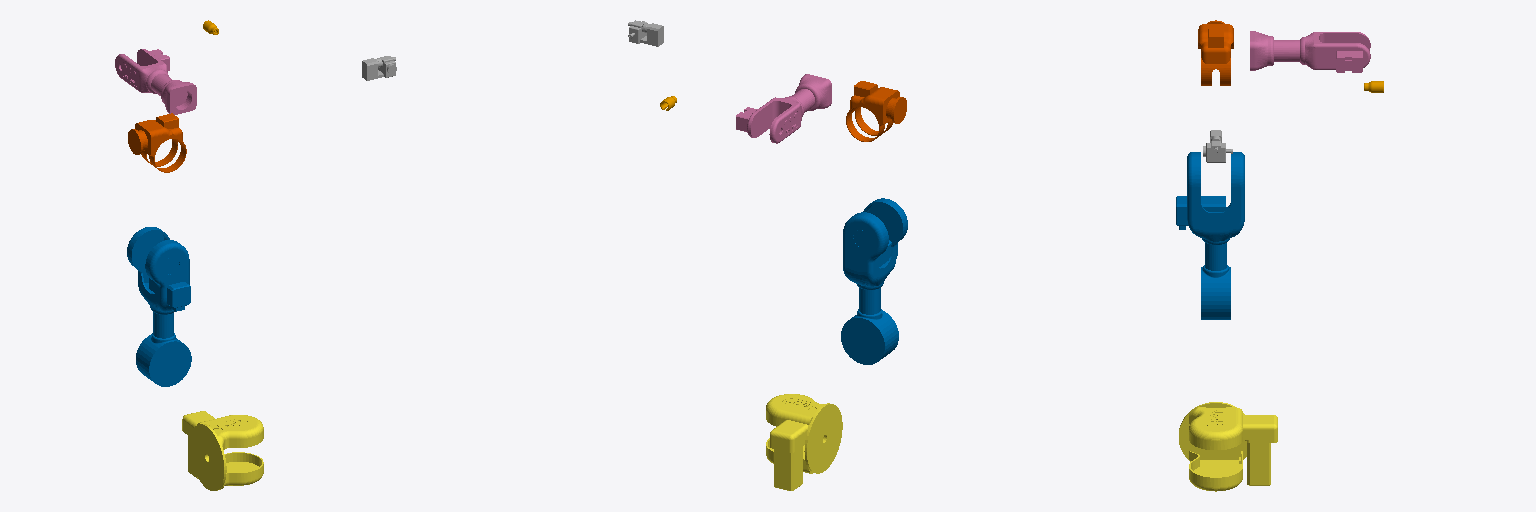
robot.urdf — niryo_ned2:
<?xml version="1.0"?>
<robot name="niryo_ned2">
    <!-- Links -->

    <link name="world"/>

    <link name="base_link">
        <inertial>
            <origin xyz="-0.008924 0.0001357 0.052392" rpy="0 0 0"/>
            <mass value="0.71142"/>
            <inertia ixx="0.0017" ixy="0.0" ixz="0.0" iyy="0.0017" iyz="0.0" izz="0.0032"/>
        </inertial>
        <visual>
            <origin xyz="0 0 0" rpy="0 0 0"/>
            <geometry>
                <mesh filename="assets/1- BASE - V1.obj" scale="0.001 0.001 0.001"/>
            </geometry>
        </visual>
        <collision>
            <origin xyz="0 0 0" rpy="-1.5708 0 0"/>
            <geometry>
                <mesh filename="assets/1- BASE - V1.STL" scale="0.001 0.001 0.001"/>
            </geometry>
        </collision>
    </link>

    <link name="led_ring_link">
    </link>

    <link name="shoulder_link">
        <inertial>
            <origin xyz="-0.031951 0.0080419 0.030675" rpy="0 0 0"/>
            <mass value="0.35056"/>
            <inertia ixx="0.00023875" ixy="2.3853E-08" ixz="2.0596E-06" iyy="0.00032638" iyz="-8.9319E-07"
                     izz="0.00030089"/>
        </inertial>
        <visual>
            <origin xyz="0 0 0" rpy="0 0 -1.5708"/>
            <geometry>
                <mesh filename="assets/2- SHOULDER - V1.obj" scale="0.001 0.001 0.001"/>
            </geometry>
        </visual>
        <collision>
            <origin xyz="0 0 0" rpy="0 0 -1.5708"/>
            <geometry>
                <mesh filename="assets/2- SHOULDER - V1.STL" scale="0.001 0.001 0.001"/>
            </geometry>
        </collision>
    </link>

    <link name="arm_link">
        <inertial>
            <origin xyz="-0.00096976 0.086432 0.0038832" rpy="0 3.14159 0"/>
            <mass value="1.0838"/>
            <inertia ixx="0.008194" ixy="0.00015602" ixz="-3.434E-06" iyy="0.0011945" iyz="-0.00031298" izz="0.007915"/>
        </inertial>
        <visual>
            <origin xyz="0 0 0" rpy="0 3.14159 0"/>
            <geometry>
                <mesh filename="assets/3- ARM - V1.obj" scale="0.001 0.001 0.001"/>
            </geometry>
        </visual>
        <collision>
            <origin xyz="0 0 0" rpy="0 3.14159 0"/>
            <geometry>
                <mesh filename="assets/3- ARM - V1.STL" scale="0.001 0.001 0.001"/>
            </geometry>
        </collision>
    </link>

    <link name="elbow_link">
        <inertial>
            <origin xyz="-0.019703 0.037336 -1.7431E-09" rpy="0 3.14159 0"/>
            <mass value="0.22126"/>
            <inertia ixx="0.00011754" ixy="-1.2314E-05" ixz="-6.2064E-11" iyy="0.00020851" iyz="9.2393E-11"
                     izz="0.00022753"/>
        </inertial>
        <visual>
            <origin xyz="0 0 0" rpy="0 3.14159 -1.5708"/>
            <geometry>
                <mesh filename="assets/4- ELBOW - V1.obj" scale="0.001 0.001 0.001"/>
            </geometry>
        </visual>
        <collision>
            <origin xyz="0 0 0" rpy="0 3.14159 -1.5708"/>
            <geometry>
                <mesh filename="assets/4- ELBOW - V1.STL" scale="0.001 0.001 0.001"/>
            </geometry>
        </collision>
    </link>

    <link name="forearm_link">
        <inertial>
            <origin xyz="-0.0049532 7.8351E-06 0.08106" rpy="0 0 0"/>
            <mass value="0.35686"/>
            <inertia ixx="0.0013664" ixy="-9.6367E-08" ixz="0.00013594" iyy="0.0014781" iyz="-1.4596E-07"
                     izz="0.00023715"/>
        </inertial>
        <visual>
            <origin xyz="0 0 0" rpy="0 0 -1.5708"/>
            <geometry>
                <mesh filename="assets/5- FOREARM - V1.obj" scale="0.001 0.001 0.001"/>
            </geometry>
        </visual>
        <collision>
            <origin xyz="0 0 0" rpy="0 0 -1.5708"/>
            <geometry>
                <mesh filename="assets/5- FOREARM - V1.STL" scale="0.001 0.001 0.001"/>
            </geometry>
        </collision>
    </link>

    <link name="wrist_link">
        <inertial>
            <origin xyz="-0.019666 0.037312 0.0" rpy="0 0 0"/>
            <mass value="0.22126"/>
            <inertia ixx="0.0015" ixy="0.0" ixz="0.0" iyy="0.0015" iyz="0.0" izz="0.0015"/>
        </inertial>
        <visual>
            <origin xyz="0 0 0" rpy="0 0 -1.5708"/>
            <geometry>
                <mesh filename="assets/6- WRIST - V1.obj" scale="0.001 0.001 0.001"/>
            </geometry>
        </visual>
        <collision>
            <origin xyz="0 0 0" rpy="0 0 -1.5708"/>
            <geometry>
                <mesh filename="assets/6- WRIST - V1.STL" scale="0.001 0.001 0.001"/>
            </geometry>
        </collision>
    </link>

    <link name="hand_link">
        <inertial>
            <origin xyz="0 0 0.009" rpy="0 0 0"/>
            <mass value="0.0070027"/>
            <inertia ixx="0.0015" ixy="0.0" ixz="0.0" iyy="0.0015" iyz="0.0" izz="0.0015"/>
        </inertial>
        <visual>
            <origin xyz="0 0 0" rpy="0 0 -1.5708"/>
            <geometry>
                <mesh filename="assets/7- HAND - V1.obj" scale="0.001 0.001 0.001"/>
            </geometry>
        </visual>
        <collision>
            <origin xyz="0 0 0" rpy="0 0 -1.5708"/>
            <geometry>
                <mesh filename="assets/7- HAND - V1.STL" scale="0.001 0.001 0.001"/>
            </geometry>
        </collision>
    </link>

    <link name="tool_link">
    </link>

    <!-- Joints -->

    <joint name="joint_world" type="fixed">
        <parent link="world"/>
        <child link="base_link"/>
        <origin xyz="0 0 0" rpy="0 0 0"/>
    </joint>

    <joint name="joint_1" type="revolute">
        <origin xyz="0 0 0.1013" rpy="0 0 0"/>
        <parent link="base_link"/>
        <child link="shoulder_link"/>
        <axis xyz="0 0 1"/>
        <limit effort="10.0" velocity="10.0" lower="-3.05433" upper="3.05433"/>
    </joint>

    <joint name="joint_2" type="revolute">
        <origin xyz="0 0 0.065" rpy="1.5708 0 0"/>
        <parent link="shoulder_link"/>
        <child link="arm_link"/>
        <axis xyz="0 0 1"/>
        <limit effort="10.0" velocity="8.0" lower="-1.91986" upper="0.640187"/>
    </joint>

    <joint name="joint_3" type="revolute">
        <origin xyz="0.012 0.221 0" rpy="0 0 1.5708"/>
        <parent link="arm_link"/>
        <child link="elbow_link"/>
        <axis xyz="0 0 1"/>
        <limit effort="7.0" velocity="8.0" lower="-1.39626" upper="1.39626"/>
    </joint>

    <joint name="joint_4" type="revolute">
        <origin xyz="0.0325 -0.065 0" rpy="1.5708 0 0"/>
        <parent link="elbow_link"/>
        <child link="forearm_link"/>
        <axis xyz="0 0 1"/>
        <limit effort="7.0" velocity="2.0" lower="-3.05433" upper="3.05433"/>
    </joint>

    <joint name="joint_5" type="revolute">
        <origin xyz="0 0 0.17" rpy="-1.5708 0 0"/>
        <parent link="forearm_link"/>
        <child link="wrist_link"/>
        <axis xyz="0 0 1"/>
        <limit effort="6.0" velocity="2.0" lower="-1.74533" upper="1.74533"/>
    </joint>

    <joint name="joint_6" type="revolute">
        <origin xyz="0.00925 -0.0197 0" rpy="1.5708 0 0"/>
        <parent link="wrist_link"/>
        <child link="hand_link"/>
        <axis xyz="0 0 1"/>
        <limit effort="5.0" velocity="2.0" lower="-3.05433" upper="3.05433"/>
    </joint>

    <joint name="hand_tool_joint" type="fixed">
        <parent link="hand_link"/>
        <child link="tool_link"/>
        <origin xyz="0 0 0.02" rpy="3.14159 -1.5708 0"/>
    </joint>

    <joint name="joint_led_ring" type="fixed">
        <parent link="world"/>
        <child link="led_ring_link"/>
        <origin xyz="0 0 0.0923" rpy="0 0 0"/>
    </joint>

</robot>

--- Render facts (derived) ---
Views: 3 orthographic renders of the robot side by side, from view 1: azimuth 30°, elevation 25°; view 2: azimuth 150°, elevation 25°; view 3: azimuth 270°, elevation 25°.
Robot: niryo_ned2 — 10 links, 9 joints (6 revolute, 3 fixed); root link world; default pose: every joint at zero.
Links seen in each view (by area): view 1: arm_link, shoulder_link, forearm_link, elbow_link, wrist_link; view 2: arm_link, shoulder_link, forearm_link, elbow_link, wrist_link; view 3: shoulder_link, arm_link, forearm_link, elbow_link, wrist_link.
Link boxes in pixels (box(x1,y1,x2,y2)): arm_link: box(127, 227, 191, 386); shoulder_link: box(182, 411, 263, 490); forearm_link: box(115, 49, 196, 114); elbow_link: box(128, 113, 186, 172); wrist_link: box(362, 56, 396, 80); arm_link: box(841, 198, 907, 364); shoulder_link: box(766, 394, 842, 490); forearm_link: box(736, 74, 831, 143); elbow_link: box(846, 81, 906, 141); wrist_link: box(628, 20, 663, 46); shoulder_link: box(1179, 402, 1277, 491); arm_link: box(1176, 152, 1244, 319); forearm_link: box(1250, 31, 1370, 72); elbow_link: box(1198, 20, 1233, 85); wrist_link: box(1203, 130, 1232, 162).
Size in the robot's own frame: 0.5787 by 0.3654 by 0.84 metres.
6 mesh visuals loaded from 7 distinct referenced files (6 OBJ); not drawn: 1 (reference not matched to a file when rendering).
